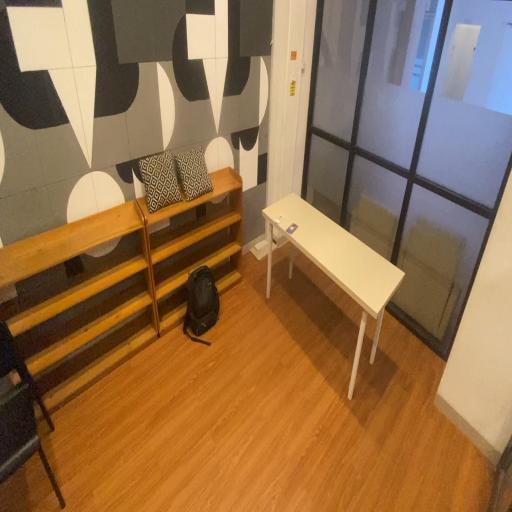bantal: (139, 150, 182, 215), (175, 145, 214, 203)
hp: (286, 221, 299, 237)
lemari: (2, 197, 160, 417)
meja: (262, 188, 406, 406)
remote AC: (274, 211, 284, 226)
tas ransel: (181, 262, 223, 349)
